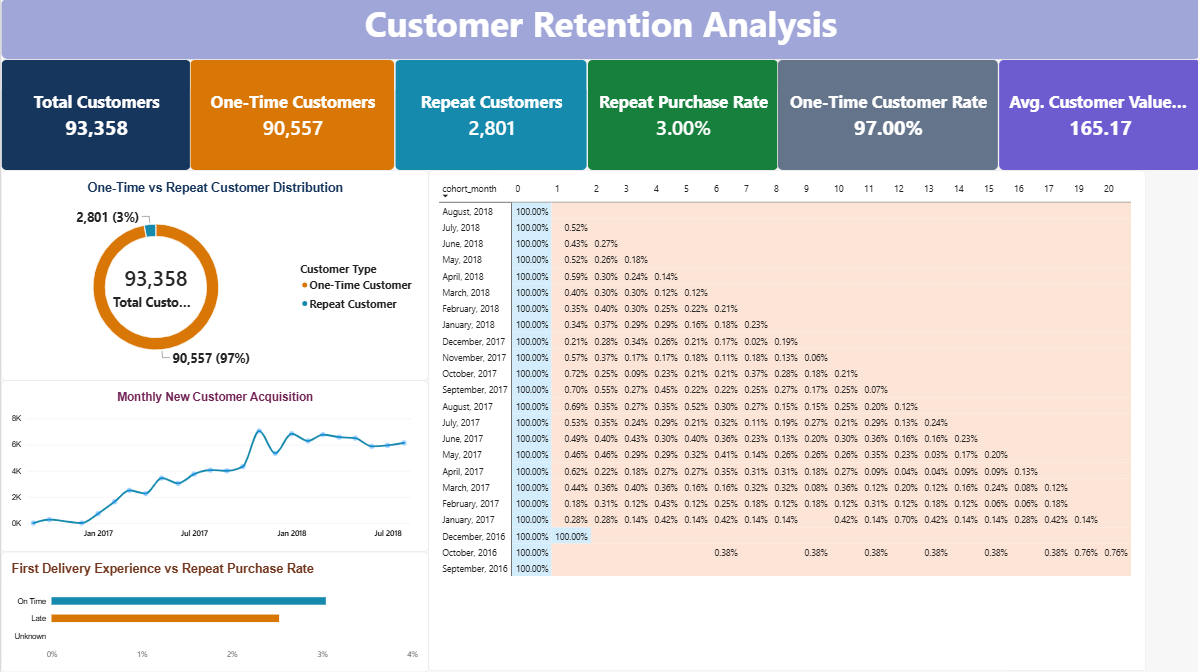

The dashboard page shown, as its layout file describes it:
{"tool":"powerbi","page":{"name":"Customer Retention Analysis","canvas":[1920,1080],"ordinal":0},"visuals":[{"type":"cardVisual","fields":{"Data":["customer_rfm_segments.Total Customers"]},"box":[0,98,304,178],"z":0},{"type":"cardVisual","fields":{"Data":["customer_rfm_segments.Average Customer Value(BRL)"]},"box":[1596,98,324,178],"z":1000},{"type":"cardVisual","fields":{"Data":["customer_rfm_segments.Repeat Purchase Rate"]},"box":[938,98,306,178],"z":2000},{"type":"cardVisual","fields":{"Data":["customer_rfm_segments.One-Time Customer Rate"]},"box":[1242,98,354,178],"z":3000},{"type":"cardVisual","fields":{"Data":["customer_rfm_segments.Repeat Customers"]},"box":[630,98,308,178],"z":4000},{"type":"cardVisual","fields":{"Data":["customer_rfm_segments.One-Time Customers"]},"box":[302,98,328,178],"z":5000},{"type":"textbox","box":[0,0,1920,98],"z":6000},{"type":"donutChart","title":"One-Time vs Repeat Customer Distribution","fields":{"Category":["customer_rfm_segments.Customer Type"],"Y":["customer_rfm_segments.Total Customers"]},"box":[0,276,684,336],"z":7000},{"type":"pivotTable","fields":{"Columns":["monthly_cohort_retention.month_number"],"Rows":["monthly_cohort_retention.cohort_month"],"Values":["monthly_cohort_retention.Cohort Retention %"]},"box":[684,276,1148,802],"z":8000},{"type":"lineChart","title":"Monthly New Customer Acquisition","fields":{"Category":["monthly_cohort_retention.cohort_month.Variation.Date Hierarchy.Year","monthly_cohort_retention.cohort_month.Variation.Date Hierarchy.Month"],"Y":["monthly_cohort_retention.New Customers by Cohort"]},"box":[0,612,684,274],"z":9000},{"type":"clusteredBarChart","title":"First Delivery Experience vs Repeat Purchase Rate","fields":{"Category":["delivery_performance.delivery_status"],"Y":["delivery_performance.Delivery Repeat Rate"]},"box":[0,886,684,194],"z":10000}]}

Visuals, with their boxes in screenshot pixels (x1, y1, x2, y2), scaled from the page's 1920x1080 canvas onto the 1198x672 screenshot:
cardVisual - customer_rfm_segments.Total Customers: pyautogui.locateOnScreen(0, 61, 190, 172)
cardVisual - customer_rfm_segments.Average Customer Value(BRL): pyautogui.locateOnScreen(996, 61, 1197, 172)
cardVisual - customer_rfm_segments.Repeat Purchase Rate: pyautogui.locateOnScreen(585, 61, 776, 172)
cardVisual - customer_rfm_segments.One-Time Customer Rate: pyautogui.locateOnScreen(775, 61, 996, 172)
cardVisual - customer_rfm_segments.Repeat Customers: pyautogui.locateOnScreen(393, 61, 585, 172)
cardVisual - customer_rfm_segments.One-Time Customers: pyautogui.locateOnScreen(188, 61, 393, 172)
textbox: pyautogui.locateOnScreen(0, 0, 1197, 61)
"One-Time vs Repeat Customer Distribution" donutChart: pyautogui.locateOnScreen(0, 172, 427, 381)
pivotTable - monthly_cohort_retention.month_number x monthly_cohort_retention.cohort_month: pyautogui.locateOnScreen(427, 172, 1143, 671)
"Monthly New Customer Acquisition" lineChart: pyautogui.locateOnScreen(0, 381, 427, 551)
"First Delivery Experience vs Repeat Purchase Rate" clusteredBarChart: pyautogui.locateOnScreen(0, 551, 427, 671)
